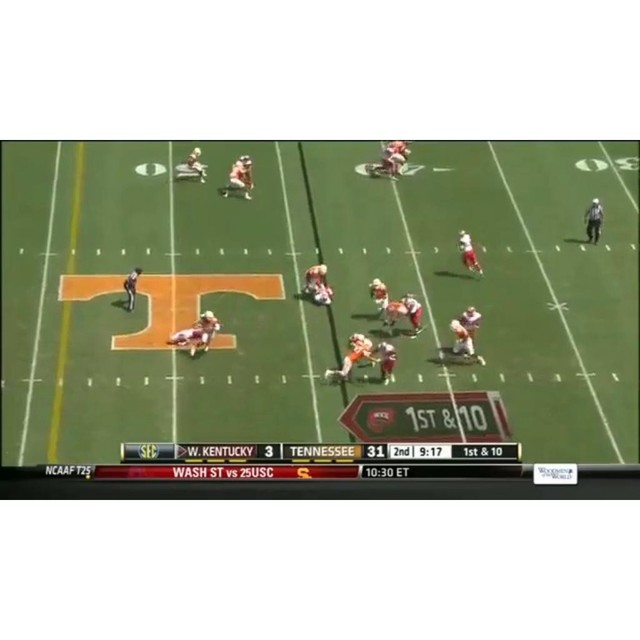american-football-player: (324, 337, 373, 383), (449, 315, 486, 366), (294, 261, 335, 306), (219, 158, 253, 200), (458, 230, 485, 279), (174, 147, 208, 184), (197, 310, 223, 354), (400, 295, 425, 338), (376, 341, 398, 385), (368, 277, 391, 319)
referee: (583, 199, 606, 246), (122, 266, 143, 314)
